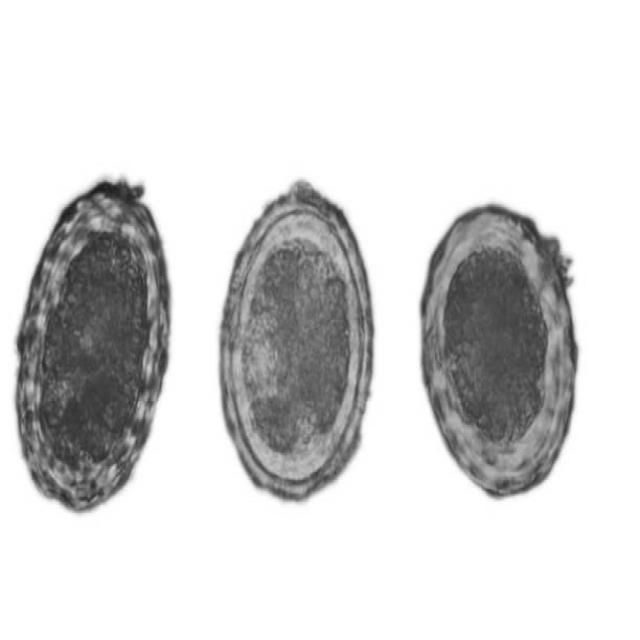Ascaris Lumbricoides: (208, 169, 379, 507), (17, 172, 169, 524), (414, 194, 583, 503)
